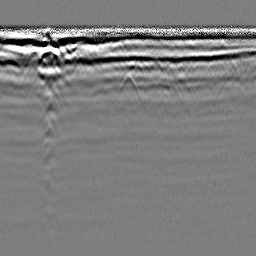cavity: (118, 72, 139, 92)
